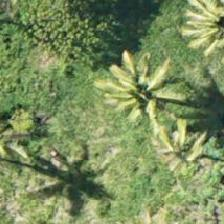coconut_tree: (98, 51, 188, 141)
